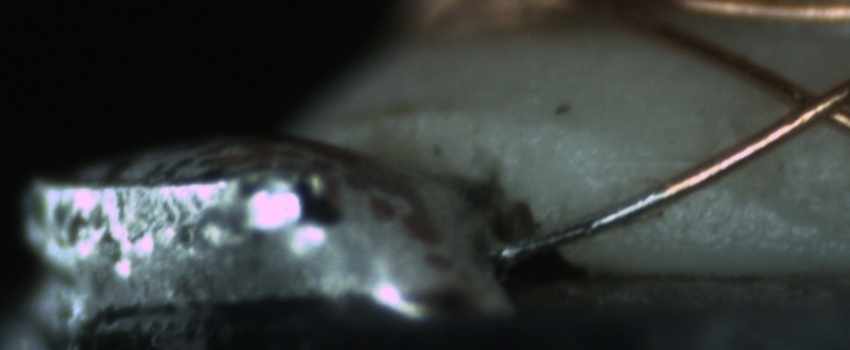CL: (766, 67, 850, 138)
DL: (576, 133, 709, 197)
TS: (494, 186, 670, 262)
